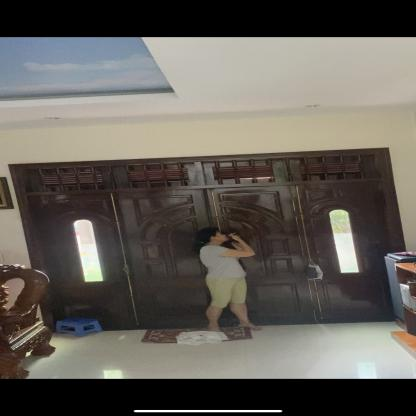cigarette: (232, 232, 237, 235)
person: (199, 225, 263, 338)
